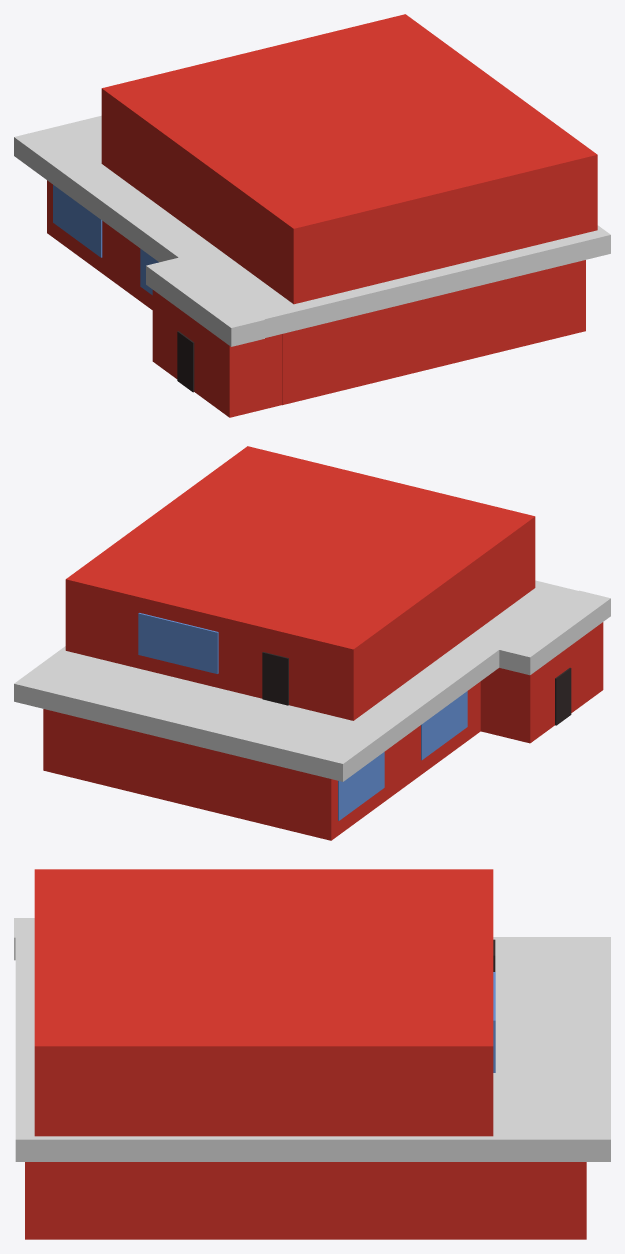
The model's file is House_Red.fbx.
3 views of the same model, one above another, from view 1: azimuth 30°, elevation 25°; view 2: azimuth 150°, elevation 25°; view 3: azimuth 270°, elevation 25° (orthographic). The views are drawn at different scales.
Parts seen in each view (by area): view 1: Cube.009, Cube.005, Cube.007, Cube.006, Cube.008, Window_1.004, Door_1.002; view 2: Cube.009, Cube.007, Cube.005, Cube.006, Cube.008, Window_1.016, Window_1.004, Window_1.003, Door_1.010, Door_1.002; view 3: Cube.009, Cube.005, Cube.007.
Part boxes in pixels (x1,y1,x2,y2): Cube.009: [101, 14, 597, 304]; Cube.005: [47, 180, 585, 405]; Cube.007: [14, 115, 610, 337]; Cube.006: [152, 290, 281, 417]; Cube.008: [146, 257, 264, 346]; Window_1.004: [53, 185, 102, 257]; Door_1.002: [177, 331, 194, 392]; Cube.009: [65, 446, 535, 720]; Cube.007: [14, 580, 578, 781]; Cube.005: [43, 681, 480, 840]; Cube.006: [480, 622, 603, 743]; Cube.008: [499, 590, 610, 675]; Window_1.016: [138, 613, 218, 673]; Window_1.004: [338, 752, 384, 820]; Window_1.003: [421, 691, 467, 760]; Door_1.010: [262, 652, 288, 705]; Door_1.002: [555, 667, 571, 725]; Cube.009: [34, 869, 493, 1136]; Cube.005: [25, 1162, 586, 1239]; Cube.007: [15, 937, 610, 1161].
Bounding box in the file's own units: 5049 × 2152 × 5749.
